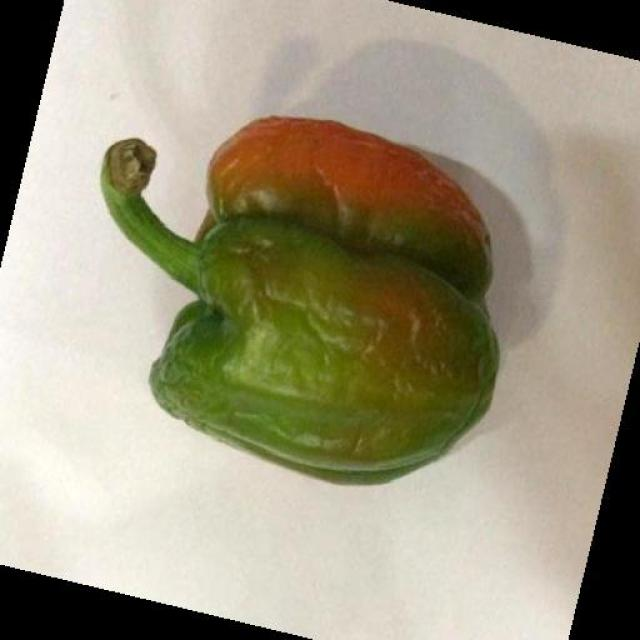Stale_Capsicum: (128, 99, 504, 468)
